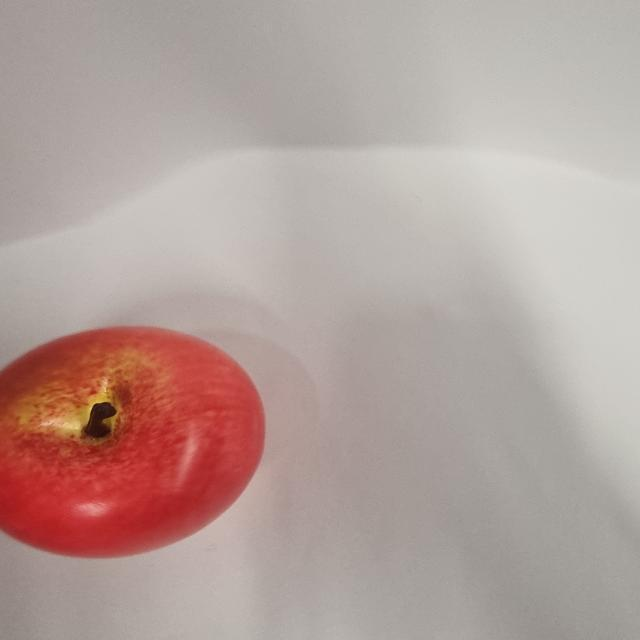apple: (0, 326, 265, 556)
